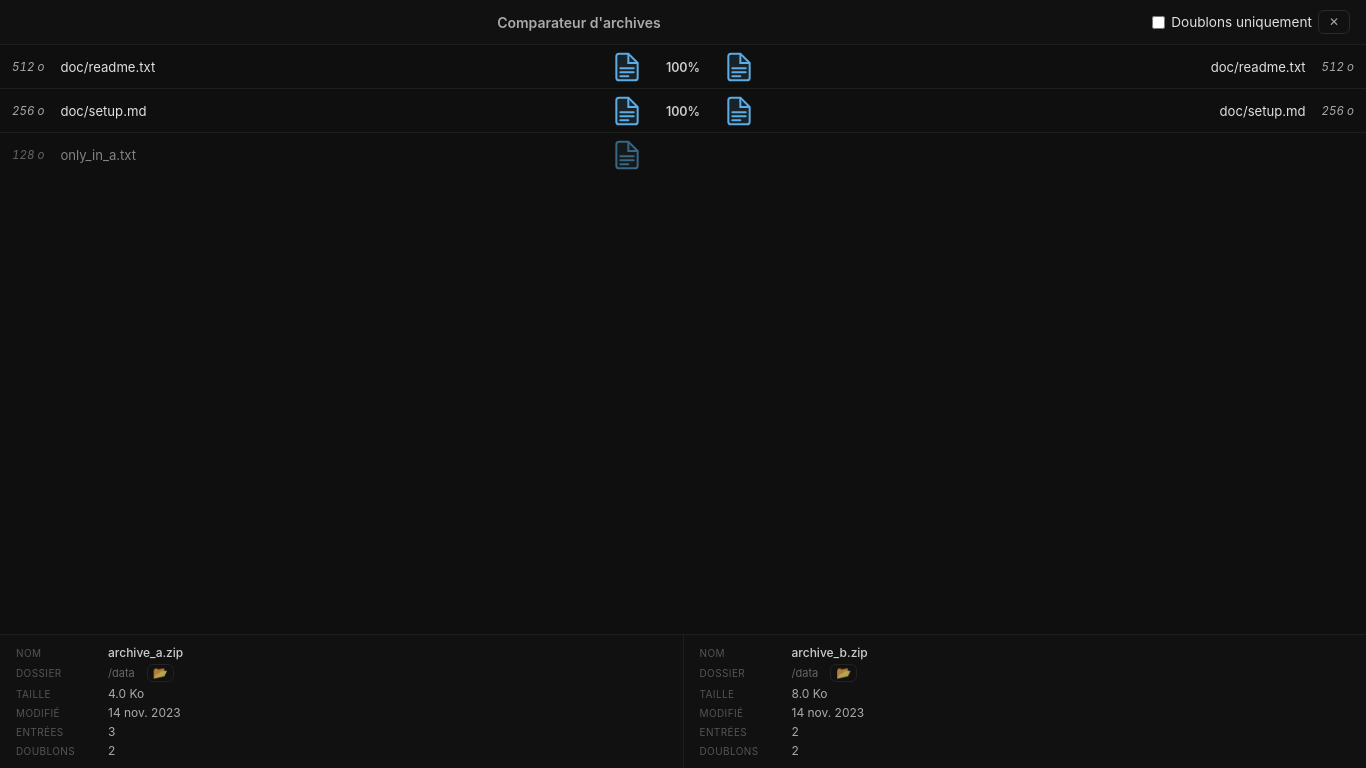
Scenario: ArchiveComparator - filtre doublons › masque les uniques quand le toggle 'Doublons uniquement' est actif
Expected: the text "only_in_a.txt" is shown, [60, 147, 136, 163]
Click the checkbox labelled "Doublons uniquement". click: (1158, 22)
box: [1152, 16, 1165, 28]
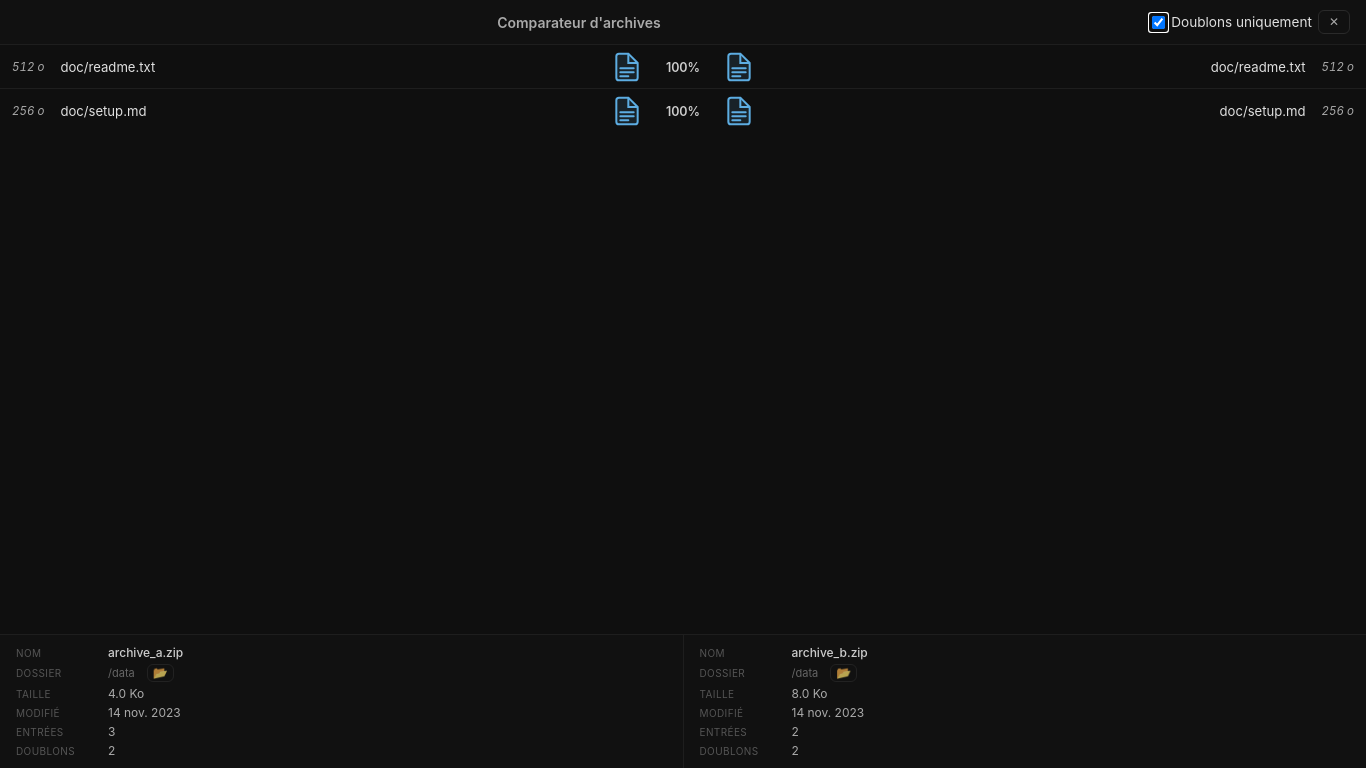
Now the text "only_in_a.txt" is gone
